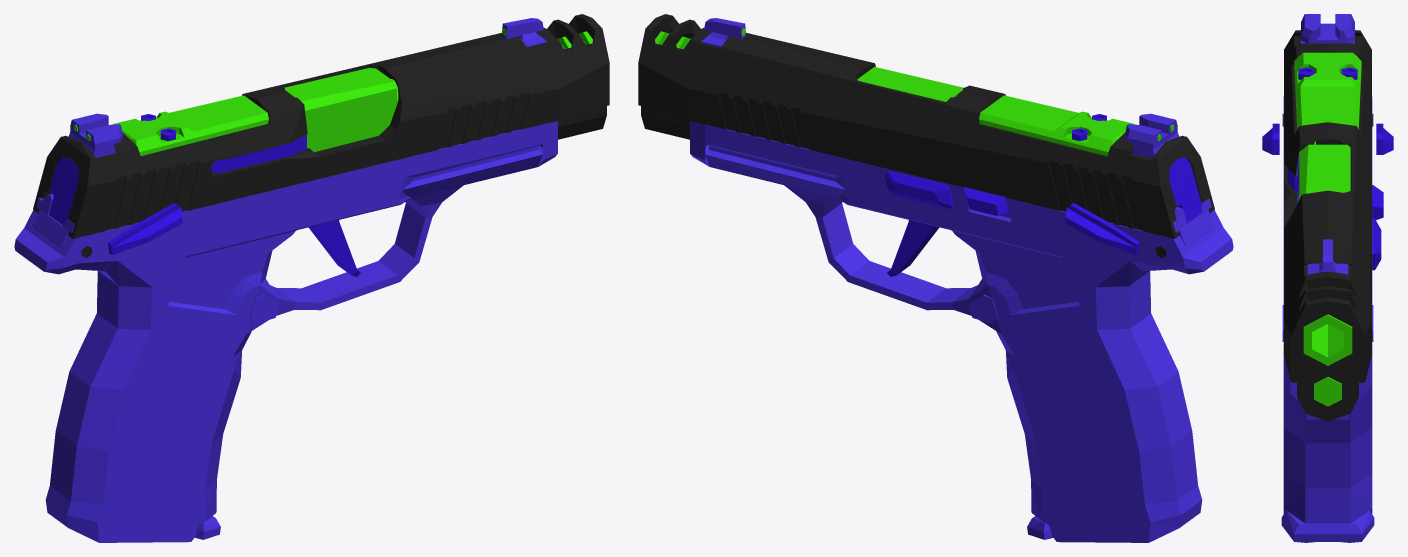
Rendered from handGun_01.gltf.
3 views of the same model, side by side, from view 1: azimuth 30°, elevation 25°; view 2: azimuth 150°, elevation 25°; view 3: azimuth 270°, elevation 25° (orthographic). The views are drawn at different scales.
Parts seen in each view (by area): view 1: Object_7, Object_8, Object_10, Object_11; view 2: Object_7, Object_8, Object_11, Object_10; view 3: Object_8, Object_7, Object_10, Object_11.
Part boxes in pixels (x1,y1,x2,y2): Object_7: [14, 18, 557, 542]; Object_8: [33, 14, 609, 257]; Object_10: [73, 28, 592, 155]; Object_11: [48, 114, 360, 276]; Object_7: [690, 18, 1233, 542]; Object_8: [638, 14, 1214, 257]; Object_11: [884, 114, 1201, 276]; Object_10: [655, 28, 1174, 155]; Object_8: [1282, 30, 1373, 421]; Object_7: [1281, 14, 1374, 542]; Object_10: [1294, 52, 1361, 406]; Object_11: [1262, 67, 1393, 270].
Bounding box in the file's own units: 4.62 × 3.35 × 0.8541.
